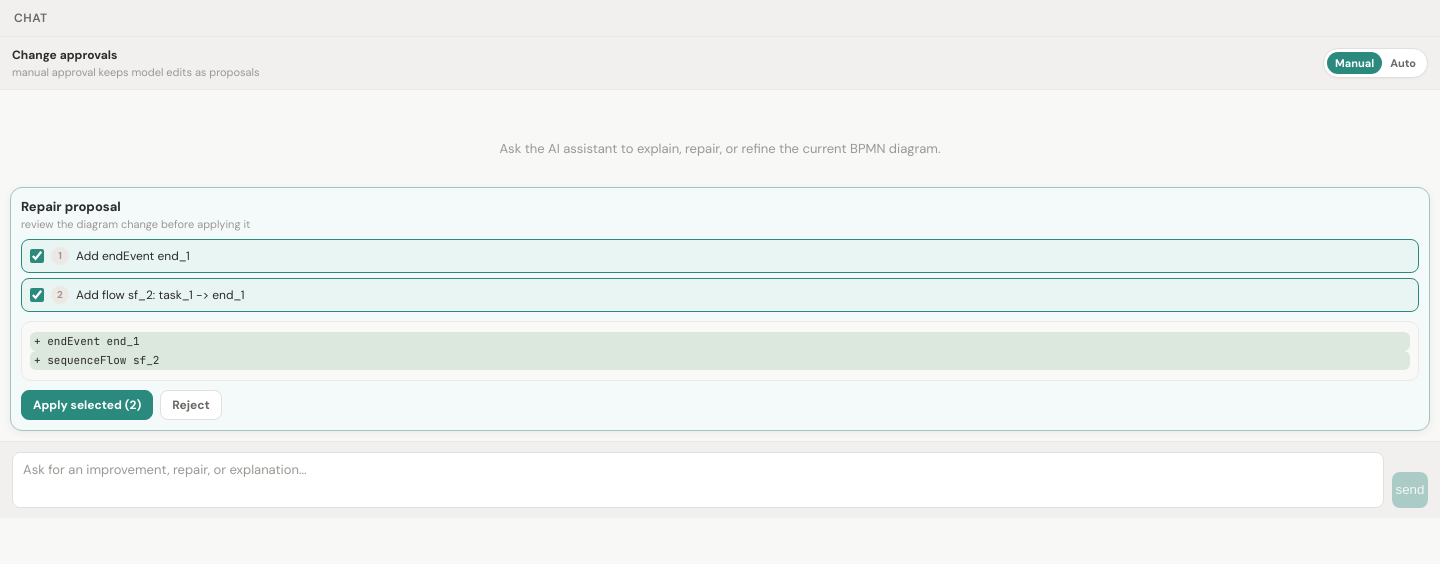
subset acceptance › surfaces a subset the backend refuses to apply
What coordinates should you click on to do the following:
click the checkbox labelled "2 Add flow sf_2: task_1 -> end_1"
I would click on:
 (37, 295)
Its box is x1=30 y1=288 x2=44 y2=302.
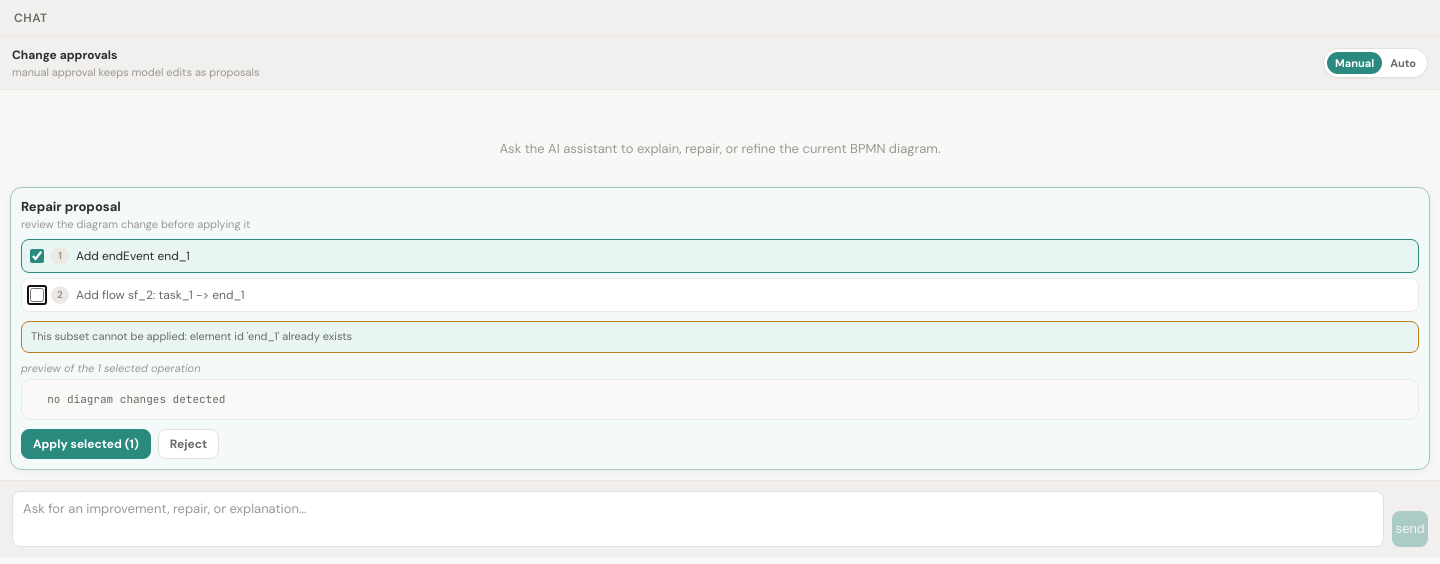
Check: the text "This subset cannot be applied: element id 'end_1' already exists" is shown, box x1=21 y1=321 x2=1419 y2=353
